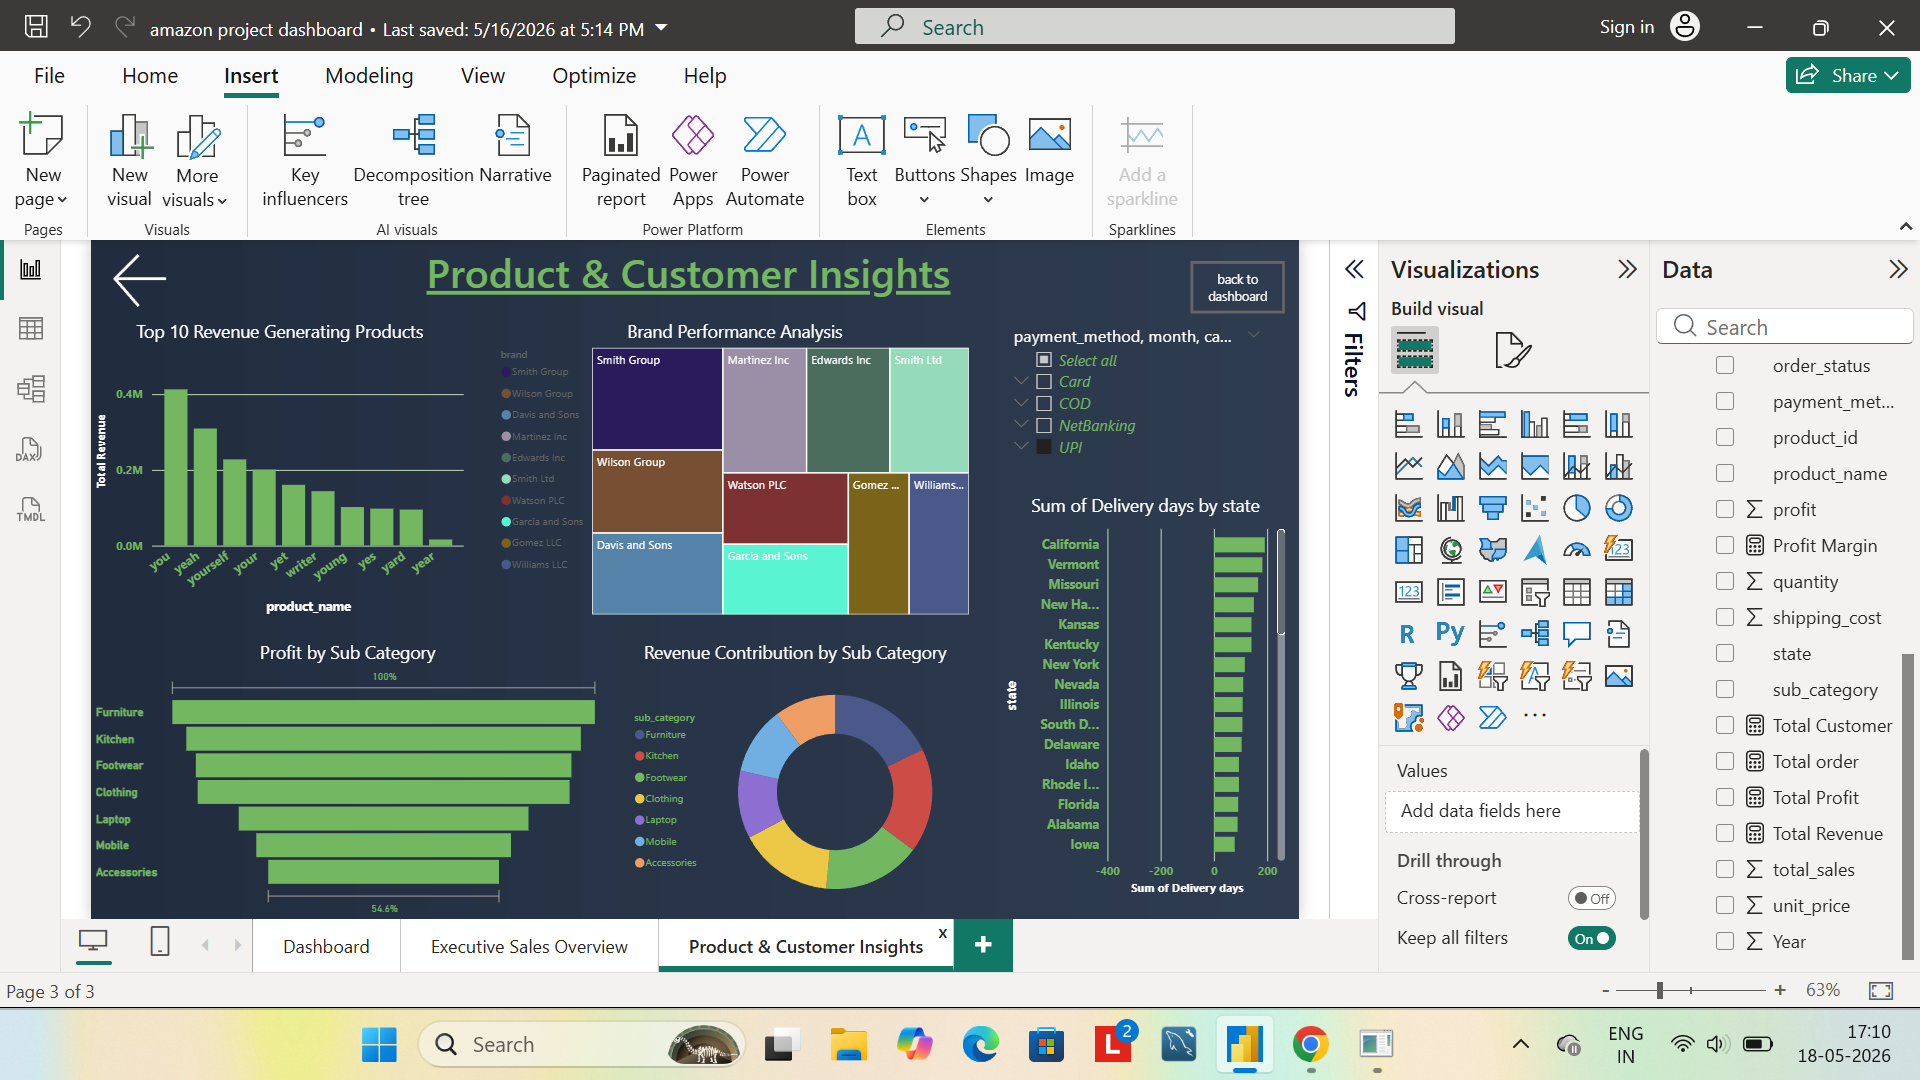

This screenshot's page, from the dashboard's own definition file:
{"tool":"powerbi","page":{"name":"Product & Customer Insights","canvas":[1280,720],"ordinal":2},"visuals":[{"type":"areaChart","title":"Top 10 Revenue Generating Products","fields":{"Category":["cleaned_amazon_sales.product_name"],"Y":["cleaned_amazon_sales.Total Revenue"]},"box":[691.9,440.6,574.2,268.8],"z":0},{"type":"textbox","box":[117.2,0,1031.8,85],"z":1000},{"type":"clusteredBarChart","title":"Brand Performance Analysis","fields":{"Category":["cleaned_amazon_sales.brand"],"Y":["cleaned_amazon_sales.Total Revenue"]},"box":[930.5,98.6,335.6,327.7],"z":2000},{"type":"funnel","title":"Profit by Sub Category","fields":{"Category":["cleaned_amazon_sales.sub_category"],"Y":["cleaned_amazon_sales.Total Profit"]},"box":[17.5,192.5,502.6,233.8],"z":3000},{"type":"waterfallChart","fields":{"Category":["cleaned_amazon_sales.state"],"Y":["Sum(cleaned_amazon_sales.Delivery days)"]},"box":[17.5,440.6,634.7,268.8],"z":4000},{"type":"donutChart","title":"Revenue Contribution by Sub Category","fields":{"Y":["cleaned_amazon_sales.Total order"],"Category":["cleaned_amazon_sales.sub_category"]},"box":[555.1,192.5,351.5,233.8],"z":5000},{"type":"actionButton","box":[17.5,8,100.2,70],"z":6000},{"type":"actionButton","box":[1165.9,22.3,100.2,55.7],"z":7000},{"type":"slicer","fields":{"Values":["cleaned_amazon_sales.payment_method"]},"box":[17.5,98.6,480.4,82.7],"z":8000},{"type":"slicer","fields":{"Values":["cleaned_amazon_sales.category"]},"box":[550.4,98.6,362.7,82.7],"z":10000}]}

Visuals, with their boxes on the page's 1280x720 design canvas (x1, y1, x2, y2). These are canvas units, not pixel positions in the 1920x1080 screenshot, which may show the page scaled, cropped or inside an application window:
"Top 10 Revenue Generating Products" areaChart: {"left": 692, "top": 441, "right": 1266, "bottom": 709}
textbox: {"left": 117, "top": 0, "right": 1149, "bottom": 85}
"Brand Performance Analysis" clusteredBarChart: {"left": 930, "top": 99, "right": 1266, "bottom": 426}
"Profit by Sub Category" funnel: {"left": 18, "top": 192, "right": 520, "bottom": 426}
waterfallChart - cleaned_amazon_sales.state x Sum(cleaned_amazon_sales.Delivery days): {"left": 18, "top": 441, "right": 652, "bottom": 709}
"Revenue Contribution by Sub Category" donutChart: {"left": 555, "top": 192, "right": 907, "bottom": 426}
actionButton: {"left": 18, "top": 8, "right": 118, "bottom": 78}
actionButton: {"left": 1166, "top": 22, "right": 1266, "bottom": 78}
slicer - cleaned_amazon_sales.payment_method: {"left": 18, "top": 99, "right": 498, "bottom": 181}
slicer - cleaned_amazon_sales.category: {"left": 550, "top": 99, "right": 913, "bottom": 181}
